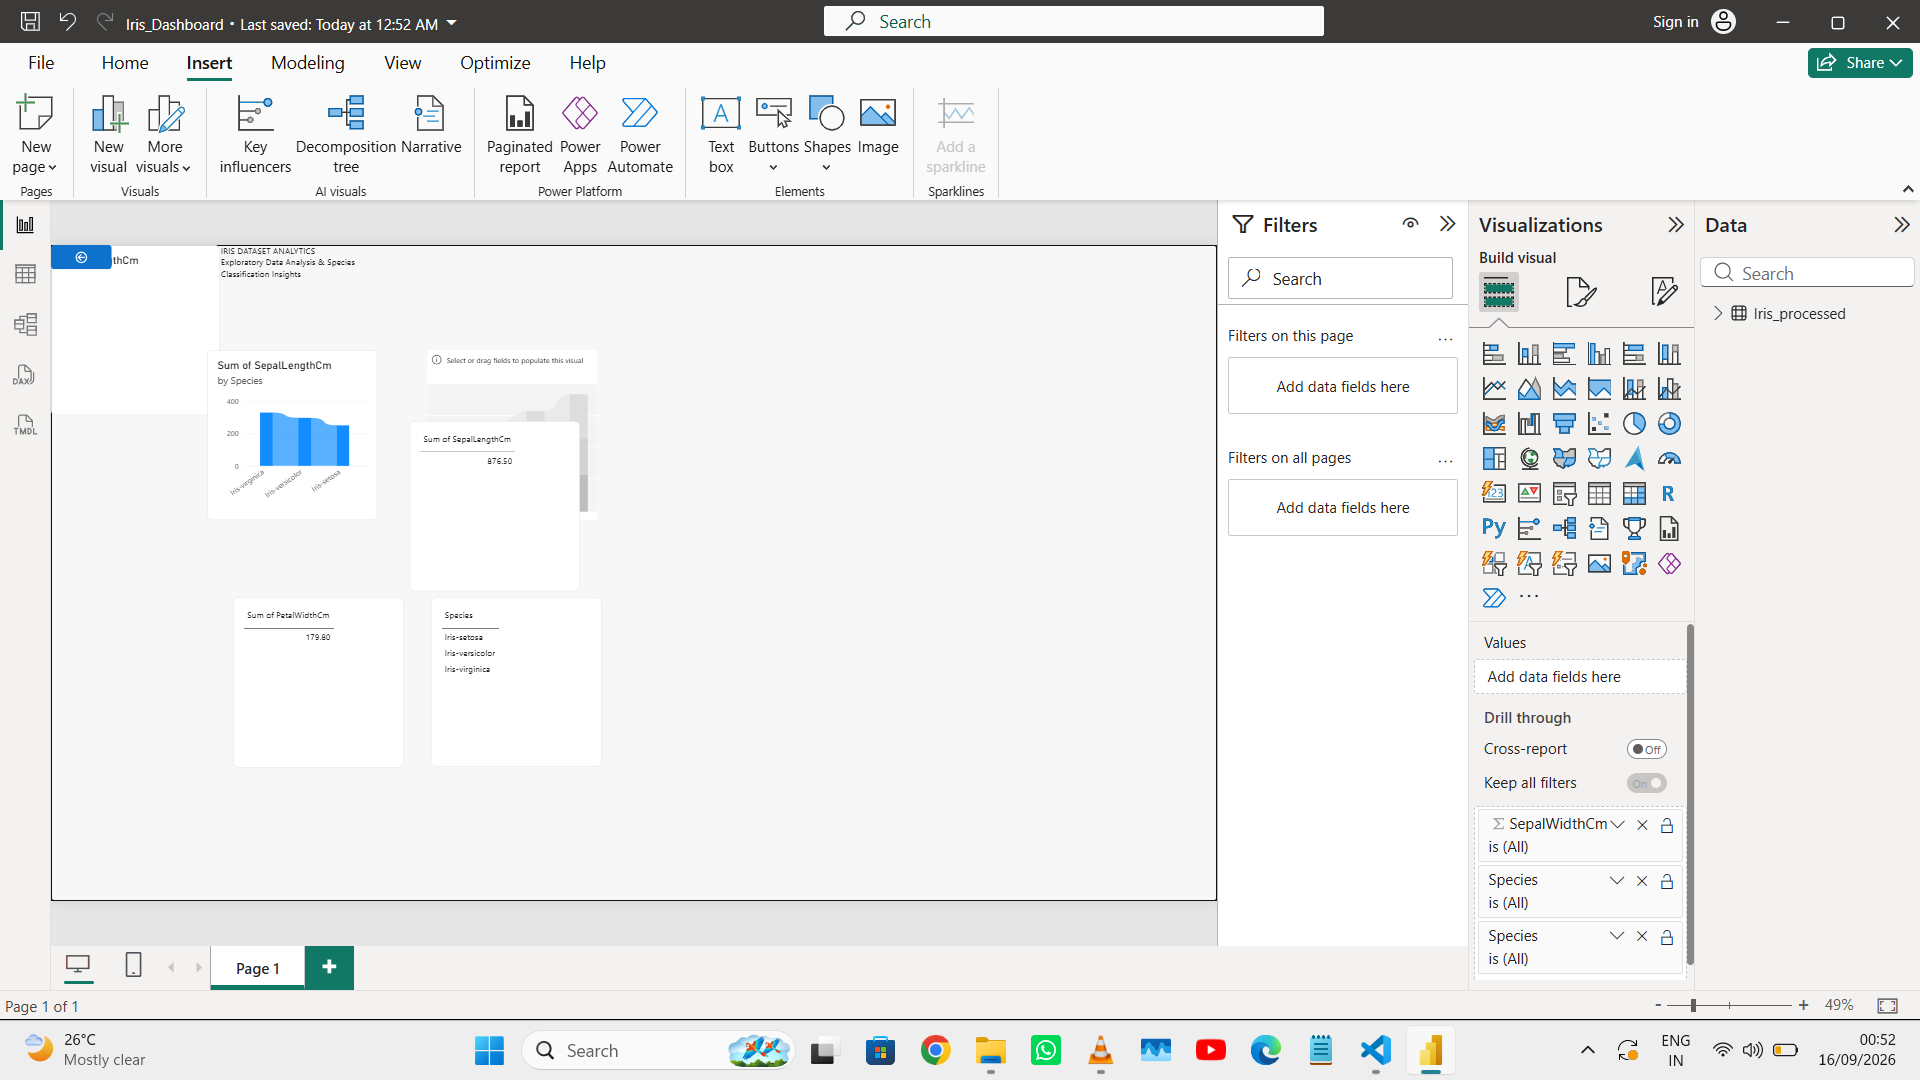

The dashboard page shown, as its layout file describes it:
{"tool":"powerbi","page":{"name":"Page 1","canvas":[1920,1080],"ordinal":0},"visuals":[{"type":"ribbonChart","fields":{"Category":["Iris_processed.SepalLengthCm"]},"box":[1475.8,244.9,277.9,279.9],"z":0},{"type":"ribbonChart","fields":{"Category":["Iris_processed.Species"],"Y":["Sum(Iris_processed.SepalLengthCm)"]},"box":[49.4,150.3,463.1,374.6],"z":1},{"type":"ribbonChart","box":[617.5,175,358.1,333.4],"z":5},{"type":"tableEx","fields":{"Values":["Sum(Iris_processed.PetalWidthCm)"]},"box":[300,580,280,280],"z":6},{"type":"tableEx","fields":{"Values":["Sum(Iris_processed.SepalLengthCm)"]},"box":[1020.9,105,280,280],"z":9},{"type":"actionButton","box":[0,0,100,40],"z":10},{"type":"tableEx","fields":{"Values":["Iris_processed.Species"]},"box":[819.2,580.4,280.5,278.7],"z":11},{"type":"textbox","box":[279,0,258,174],"z":12}]}

Visuals, with their boxes on the page's 1920x1080 design canvas (x1, y1, x2, y2). These are canvas units, not pixel positions in the 1920x1080 screenshot, which may show the page scaled, cropped or inside an application window:
ribbonChart - Iris_processed.SepalLengthCm: <region>1476, 245, 1754, 525</region>
ribbonChart - Iris_processed.Species x Sum(Iris_processed.SepalLengthCm): <region>49, 150, 512, 525</region>
ribbonChart: <region>618, 175, 976, 508</region>
tableEx - Sum(Iris_processed.PetalWidthCm): <region>300, 580, 580, 860</region>
tableEx - Sum(Iris_processed.SepalLengthCm): <region>1021, 105, 1301, 385</region>
actionButton: <region>0, 0, 100, 40</region>
tableEx - Iris_processed.Species: <region>819, 580, 1100, 859</region>
textbox: <region>279, 0, 537, 174</region>
